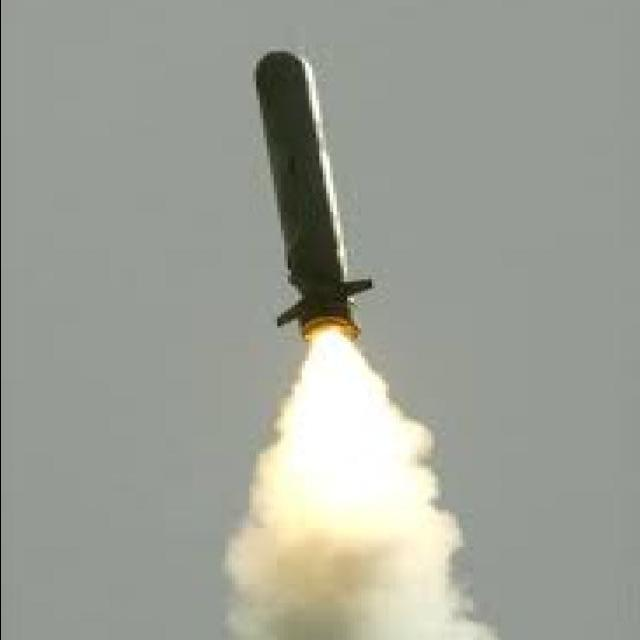missile: (250, 47, 379, 339)
